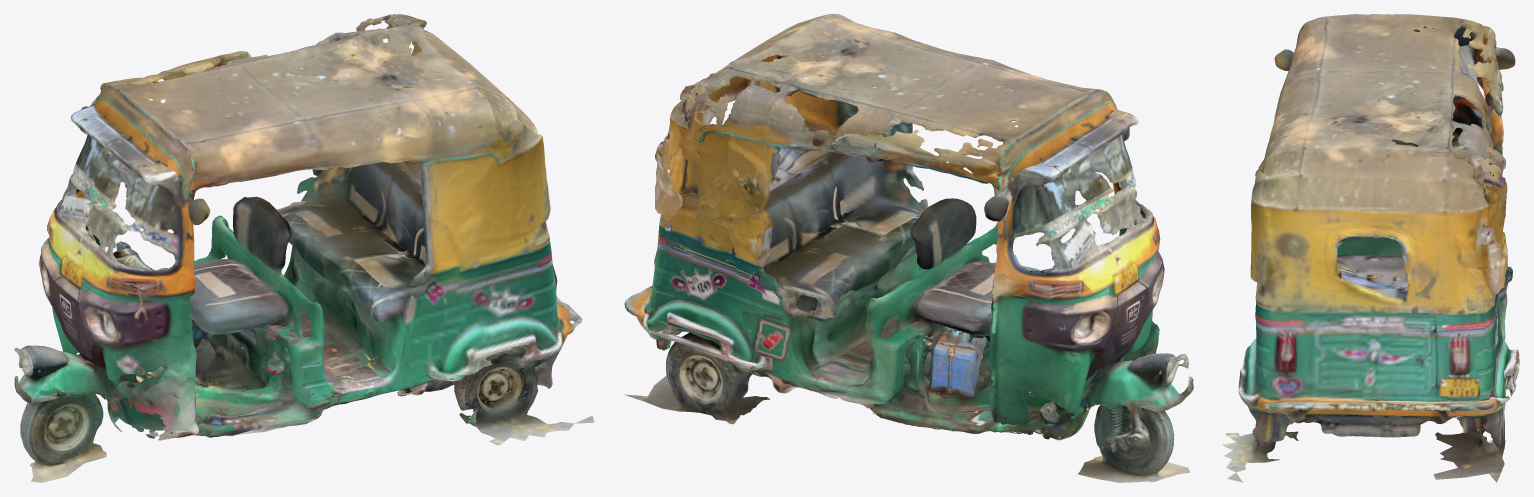
The model's file is rickshaw.glb.
3 views of the same model, side by side, from view 1: azimuth 30°, elevation 25°; view 2: azimuth 150°, elevation 25°; view 3: azimuth 270°, elevation 25° (orthographic). The views are drawn at different scales.
Bounding box in the file's own units: 2.76 × 1.71 × 1.5.
Materials: 1 (1 with a texture image).
